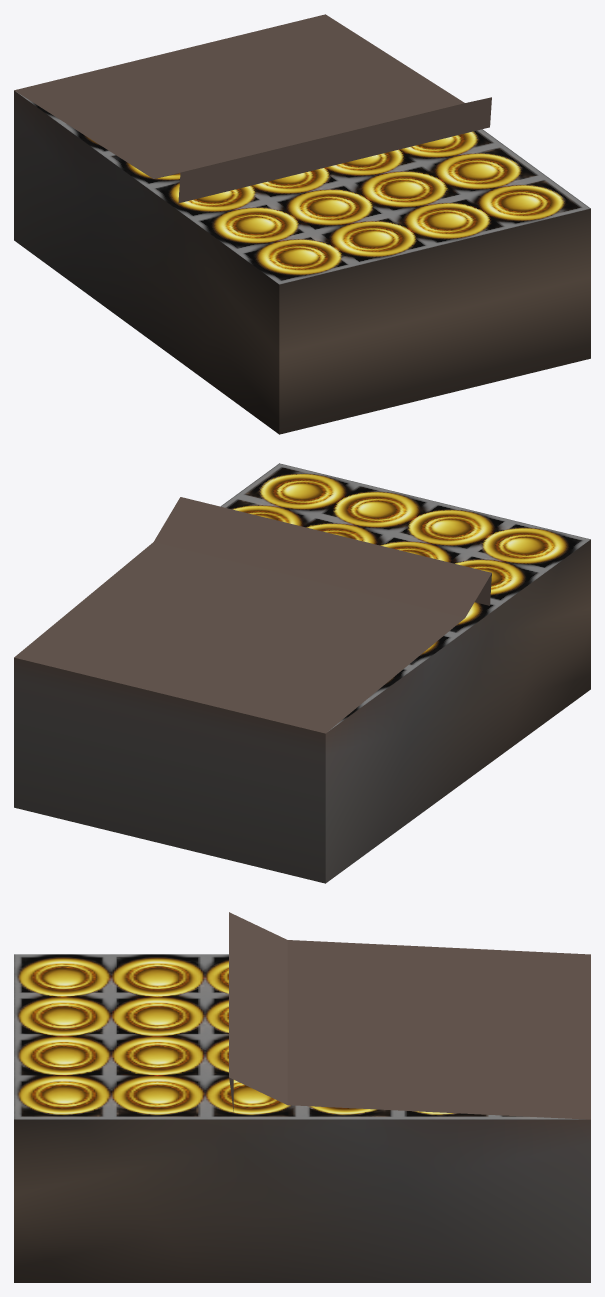
Rendered from BulletBox.fbx.
3 renders of one model, top to bottom at view 1: azimuth 30°, elevation 25°; view 2: azimuth 150°, elevation 25°; view 3: azimuth 270°, elevation 25°, orthographic. The views are drawn at different scales.
Parts seen in each view (by area): view 1: Cube.001; view 2: Cube.001; view 3: Cube.001.
Part boxes in pixels (x1,y1,x2,y2): Cube.001: [14, 14, 590, 434]; Cube.001: [14, 463, 590, 883]; Cube.001: [14, 912, 590, 1282].
Bounding box in the file's own units: 11.31 × 6.55 × 16.69.
